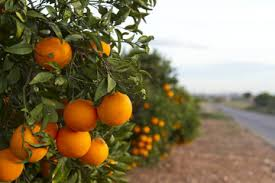orange: (13, 123, 50, 163), (37, 36, 70, 73), (99, 92, 132, 127), (64, 100, 98, 132), (59, 130, 91, 157)
